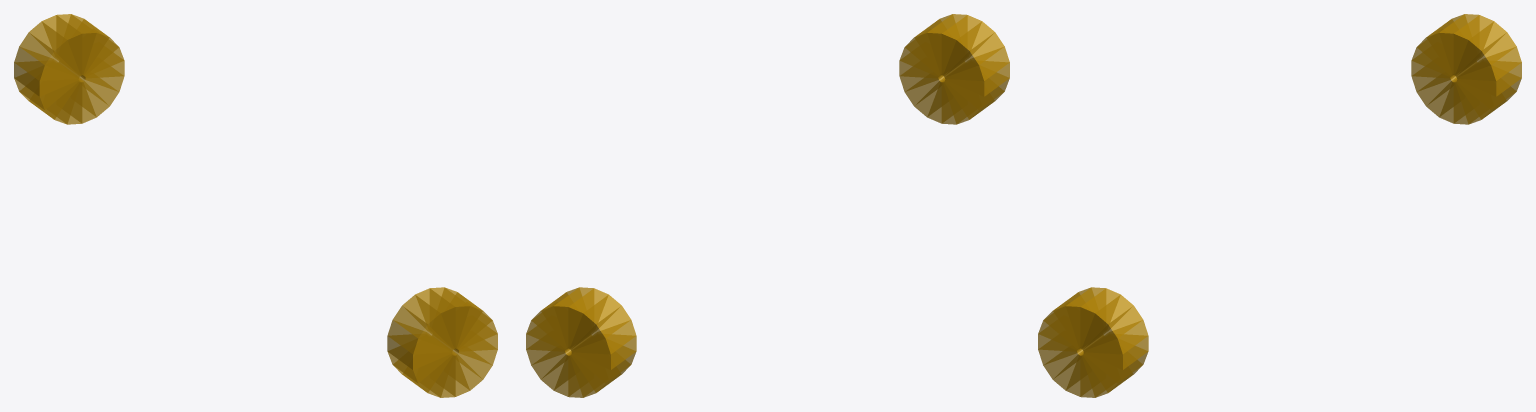
The picture shows the model from 3 angles, left to right: view 1: azimuth 30°, elevation 25°; view 2: azimuth 150°, elevation 25°; view 3: azimuth 330°, elevation 25°; orthographic projection.
Visible parts, largest first — view 1: Mesh23 hcalforwardalgo_HVQX_hcalforwardmaterial_HFAbsorber22, Mesh6 hcalforwardalgo_HVQX_hcalforwardmaterial_HFAbsorber5 l, Mesh10 hcalforwardalgo_HVQX_hcalforwardmaterial_HFAbsorber9 , Mesh19 hcalforwardalgo_HVQX_hcalforwardmaterial_HFAbsorber18, Mesh5 hcalforwardalgo_HVQX_hcalforwardmaterial_HFAbsorber4 l, Mesh24 hcalforwardalgo_HVQX_hcalforwardmaterial_HFAbsorber23, Mesh11 hcalforwardalgo_HVQX_hcalforwardmaterial_HFAbsorber10, Mesh36 hcalforwardalgo_HVQX_hcalforwardmaterial_HFAbsorber35, Mesh9 hcalforwardalgo_HVQX_hcalforwardmaterial_HFAbsorber8 l, Mesh20 hcalforwardalgo_HVQX_hcalforwardmaterial_HFAbsorber19, Mesh7 hcalforwardalgo_HVQX_hcalforwardmaterial_HFAbsorber6 l, Mesh22 hcalforwardalgo_HVQX_hcalforwardmaterial_HFAbsorber21 (+24 smaller); view 2: Mesh6 hcalforwardalgo_HVQX_hcalforwardmaterial_HFAbsorber5 l, Mesh23 hcalforwardalgo_HVQX_hcalforwardmaterial_HFAbsorber22, Mesh19 hcalforwardalgo_HVQX_hcalforwardmaterial_HFAbsorber18, Mesh10 hcalforwardalgo_HVQX_hcalforwardmaterial_HFAbsorber9 , Mesh24 hcalforwardalgo_HVQX_hcalforwardmaterial_HFAbsorber23, Mesh5 hcalforwardalgo_HVQX_hcalforwardmaterial_HFAbsorber4 l, Mesh36 hcalforwardalgo_HVQX_hcalforwardmaterial_HFAbsorber35, Mesh11 hcalforwardalgo_HVQX_hcalforwardmaterial_HFAbsorber10, Mesh20 hcalforwardalgo_HVQX_hcalforwardmaterial_HFAbsorber19, Mesh9 hcalforwardalgo_HVQX_hcalforwardmaterial_HFAbsorber8 l, Mesh22 hcalforwardalgo_HVQX_hcalforwardmaterial_HFAbsorber21, Mesh7 hcalforwardalgo_HVQX_hcalforwardmaterial_HFAbsorber6 l (+24 smaller); view 3: Mesh24 hcalforwardalgo_HVQX_hcalforwardmaterial_HFAbsorber23, Mesh5 hcalforwardalgo_HVQX_hcalforwardmaterial_HFAbsorber4 l, Mesh1 hcalforwardalgo_HVQX_hcalforwardmaterial_HFAbsorber lp, Mesh28 hcalforwardalgo_HVQX_hcalforwardmaterial_HFAbsorber27, Mesh6 hcalforwardalgo_HVQX_hcalforwardmaterial_HFAbsorber5 l, Mesh23 hcalforwardalgo_HVQX_hcalforwardmaterial_HFAbsorber22, Mesh18 hcalforwardalgo_HVQX_hcalforwardmaterial_HFAbsorber17, Mesh29 hcalforwardalgo_HVQX_hcalforwardmaterial_HFAbsorber28, Mesh2 hcalforwardalgo_HVQX_hcalforwardmaterial_HFAbsorber1 l, Mesh27 hcalforwardalgo_HVQX_hcalforwardmaterial_HFAbsorber26, Mesh4 hcalforwardalgo_HVQX_hcalforwardmaterial_HFAbsorber3 l, Mesh25 hcalforwardalgo_HVQX_hcalforwardmaterial_HFAbsorber24 (+24 smaller).
Boxes of the visible parts, x1,y1,x2,y2 form: Mesh23 hcalforwardalgo_HVQX_hcalforwardmaterial_HFAbsorber22: (42,15,82,75); Mesh6 hcalforwardalgo_HVQX_hcalforwardmaterial_HFAbsorber5 l: (415,288,455,348); Mesh10 hcalforwardalgo_HVQX_hcalforwardmaterial_HFAbsorber9 : (387,335,452,369); Mesh19 hcalforwardalgo_HVQX_hcalforwardmaterial_HFAbsorber18: (14,61,78,96); Mesh5 hcalforwardalgo_HVQX_hcalforwardmaterial_HFAbsorber4 l: (430,287,469,348); Mesh24 hcalforwardalgo_HVQX_hcalforwardmaterial_HFAbsorber23: (57,14,96,74); Mesh11 hcalforwardalgo_HVQX_hcalforwardmaterial_HFAbsorber10: (387,346,452,383); Mesh36 hcalforwardalgo_HVQX_hcalforwardmaterial_HFAbsorber35: (14,73,78,109); Mesh9 hcalforwardalgo_HVQX_hcalforwardmaterial_HFAbsorber8 l: (387,320,452,354); Mesh20 hcalforwardalgo_HVQX_hcalforwardmaterial_HFAbsorber19: (14,46,78,81); Mesh7 hcalforwardalgo_HVQX_hcalforwardmaterial_HFAbsorber6 l: (402,294,454,349); Mesh22 hcalforwardalgo_HVQX_hcalforwardmaterial_HFAbsorber21: (29,21,80,75); Mesh6 hcalforwardalgo_HVQX_hcalforwardmaterial_HFAbsorber5 l: (941,15,981,75); Mesh23 hcalforwardalgo_HVQX_hcalforwardmaterial_HFAbsorber22: (568,288,608,348); Mesh19 hcalforwardalgo_HVQX_hcalforwardmaterial_HFAbsorber18: (571,335,636,369); Mesh10 hcalforwardalgo_HVQX_hcalforwardmaterial_HFAbsorber9 : (945,61,1009,96); Mesh24 hcalforwardalgo_HVQX_hcalforwardmaterial_HFAbsorber23: (554,287,593,348); Mesh5 hcalforwardalgo_HVQX_hcalforwardmaterial_HFAbsorber4 l: (927,14,966,74); Mesh36 hcalforwardalgo_HVQX_hcalforwardmaterial_HFAbsorber35: (571,346,636,383); Mesh11 hcalforwardalgo_HVQX_hcalforwardmaterial_HFAbsorber10: (945,73,1009,109); Mesh20 hcalforwardalgo_HVQX_hcalforwardmaterial_HFAbsorber19: (571,320,636,354); Mesh9 hcalforwardalgo_HVQX_hcalforwardmaterial_HFAbsorber8 l: (945,46,1009,81); Mesh22 hcalforwardalgo_HVQX_hcalforwardmaterial_HFAbsorber21: (569,294,621,349); Mesh7 hcalforwardalgo_HVQX_hcalforwardmaterial_HFAbsorber6 l: (943,21,994,75); Mesh24 hcalforwardalgo_HVQX_hcalforwardmaterial_HFAbsorber23: (1453,15,1493,75); Mesh5 hcalforwardalgo_HVQX_hcalforwardmaterial_HFAbsorber4 l: (1080,288,1120,348); Mesh1 hcalforwardalgo_HVQX_hcalforwardmaterial_HFAbsorber lp: (1083,335,1148,369); Mesh28 hcalforwardalgo_HVQX_hcalforwardmaterial_HFAbsorber27: (1457,61,1521,96); Mesh6 hcalforwardalgo_HVQX_hcalforwardmaterial_HFAbsorber5 l: (1066,287,1105,348); Mesh23 hcalforwardalgo_HVQX_hcalforwardmaterial_HFAbsorber22: (1439,14,1478,74); Mesh18 hcalforwardalgo_HVQX_hcalforwardmaterial_HFAbsorber17: (1083,346,1148,383); Mesh29 hcalforwardalgo_HVQX_hcalforwardmaterial_HFAbsorber28: (1457,73,1521,109); Mesh2 hcalforwardalgo_HVQX_hcalforwardmaterial_HFAbsorber1 l: (1083,320,1148,354); Mesh27 hcalforwardalgo_HVQX_hcalforwardmaterial_HFAbsorber26: (1457,46,1521,81); Mesh4 hcalforwardalgo_HVQX_hcalforwardmaterial_HFAbsorber3 l: (1081,294,1133,349); Mesh25 hcalforwardalgo_HVQX_hcalforwardmaterial_HFAbsorber24: (1455,21,1506,75).
Size of the model in its own units: 3.14 by 3.19 by 25.6.
